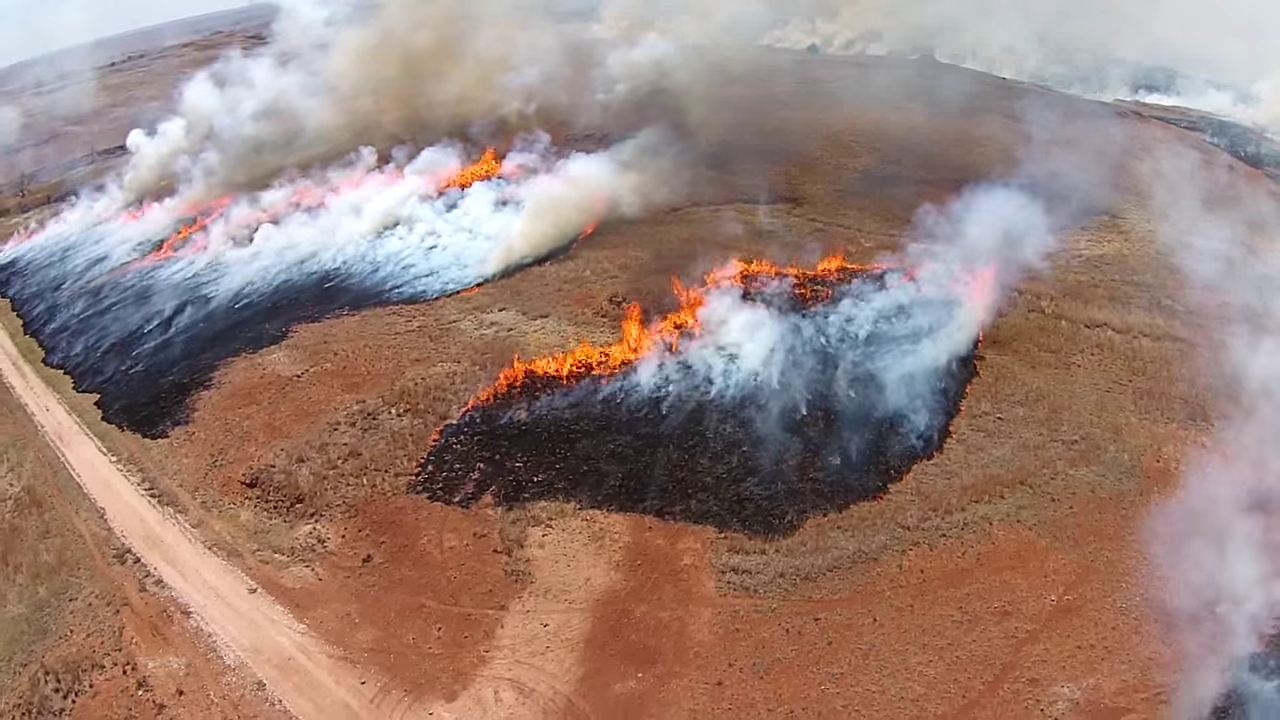forest_fire: (465, 254, 885, 409), (144, 204, 221, 258), (436, 146, 502, 192)
